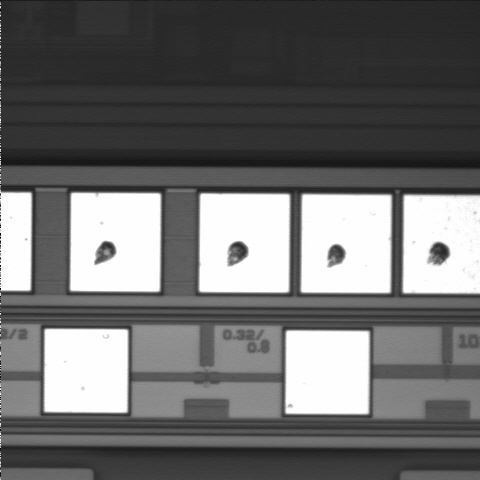pad: (70, 193, 161, 292), (199, 194, 290, 292), (301, 195, 391, 293), (44, 329, 128, 413), (286, 331, 369, 414)
